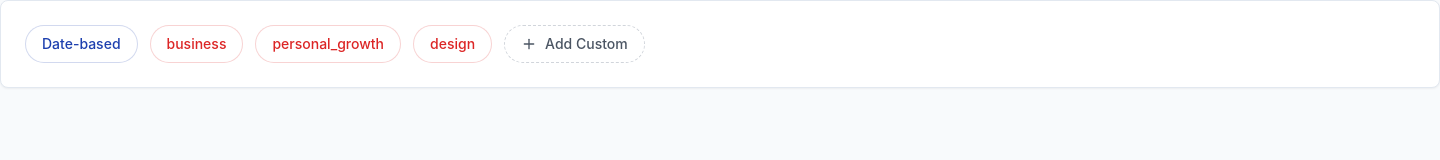
CategoryBuilder Component › Custom Category Creation › should clear input after custom category is added
Click the button "Add Custom". click: (574, 44)
box: [504,25,645,63]
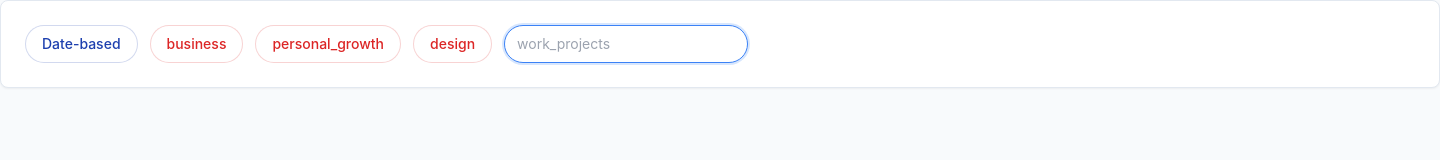
Type "test_category" into the field with placeholder "work_projects". click: (626, 44)
box: [504,25,748,63]
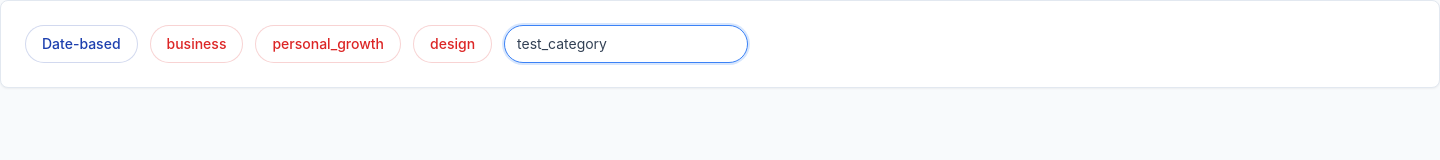
Press Enter
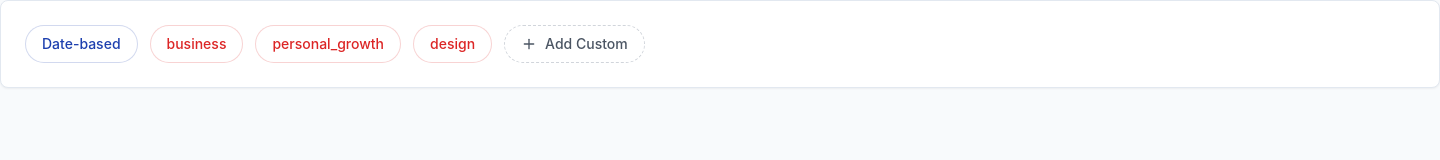
Expected: the field with placeholder "work_projects" is gone
Expected: the button "Add Custom" is shown, [504,25,645,63]
